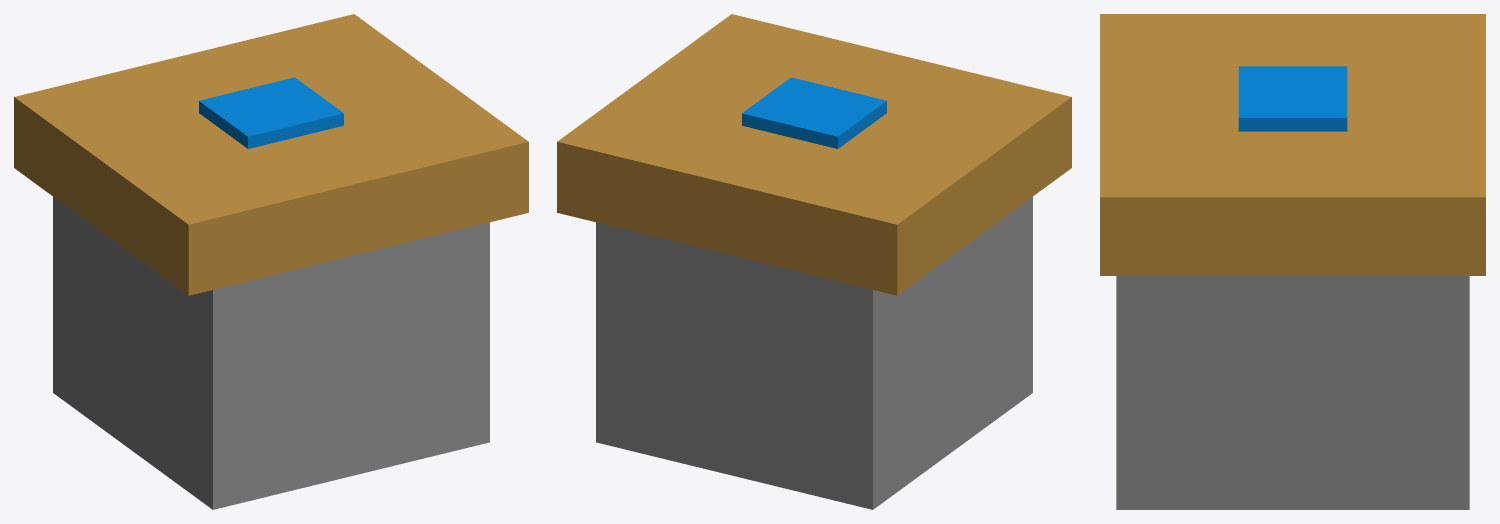
The model's file is AmazingBox.fbx.
The picture shows the model from 3 angles, left to right: view 1: azimuth 30°, elevation 25°; view 2: azimuth 150°, elevation 25°; view 3: azimuth 270°, elevation 25°; orthographic projection. The views are drawn at different scales.
Parts seen in each view (by area): view 1: Cube, Cube.001, Cube.002; view 2: Cube, Cube.001, Cube.002; view 3: Cube.001, Cube, Cube.002.
Boxes of the visible parts, x1,y1,x2,y2 form: Cube: (53, 197, 489, 509); Cube.001: (14, 14, 528, 295); Cube.002: (199, 77, 343, 148); Cube: (596, 197, 1032, 509); Cube.001: (557, 14, 1071, 295); Cube.002: (742, 77, 886, 148); Cube.001: (1100, 14, 1485, 275); Cube: (1116, 276, 1469, 509); Cube.002: (1238, 66, 1347, 131).
Size of the model in its own units: 246 by 214 by 218.
